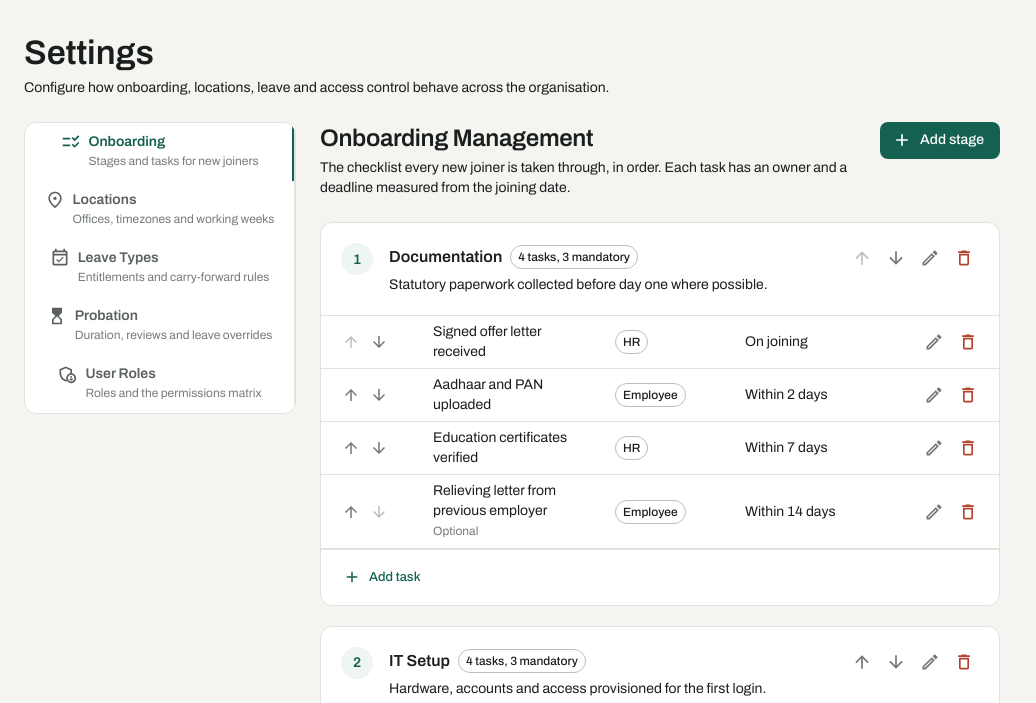
it: SettingsPage › switches between every section
The image size is (1036, 703).
Check: the heading "Onboarding Management" is shown, box [320,125,593,151]
Click the tab "Locations Offices, timezones and working weeks" at (160, 210), box [25,181,294,239]
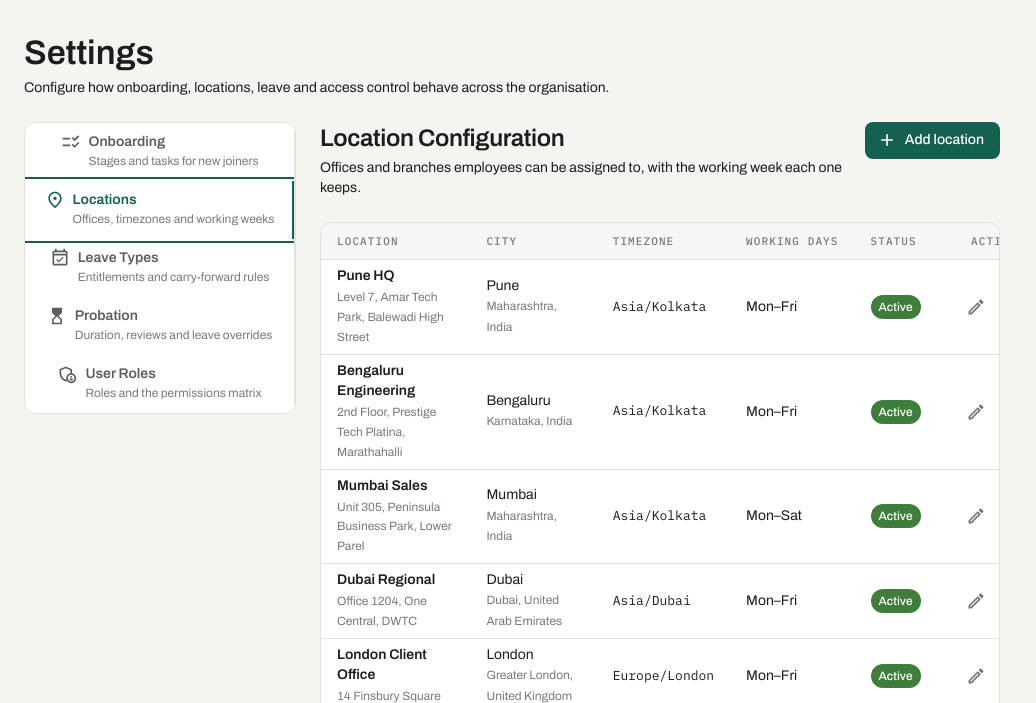
Check: the heading "Location Configuration" is shown, box [320,125,564,151]
Check: the text "Pune HQ" is shown, box [337,268,395,283]
Click the tab "Leave Types Entitlements and carry-forward rules" at (160, 268), box [25,239,294,297]
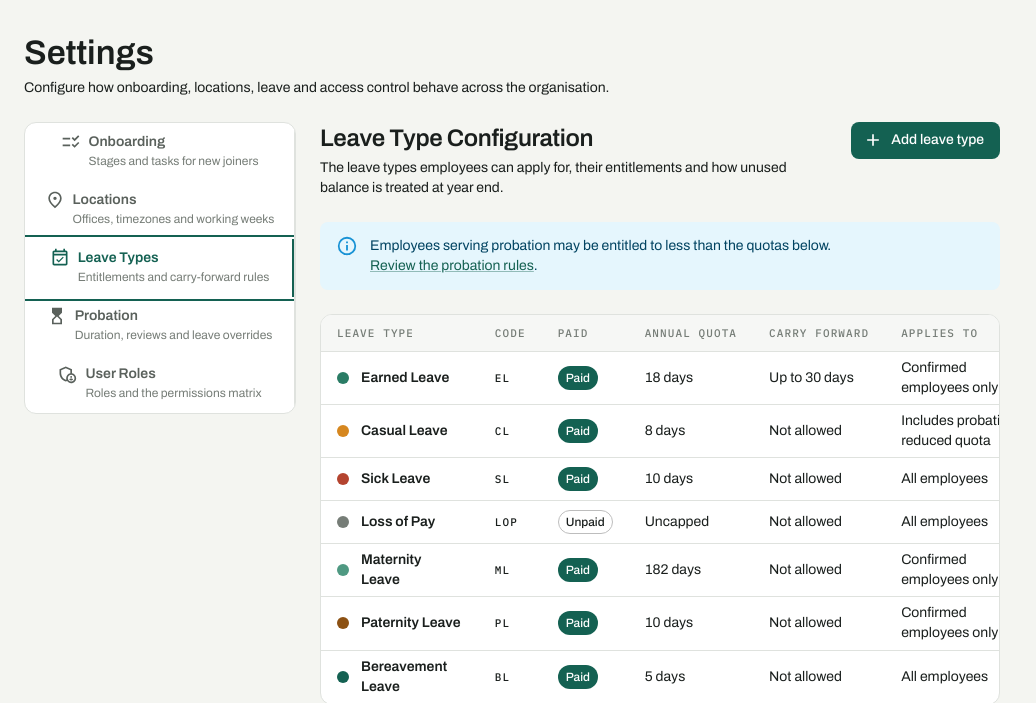
Check: the heading "Leave Type Configuration" is shown, box [320,125,593,151]
Check: the text "Earned Leave" is shown, box [361,368,449,388]
Click the tab "Probation Duration, reviews and leave overrides" at (160, 326), box [25,297,294,355]
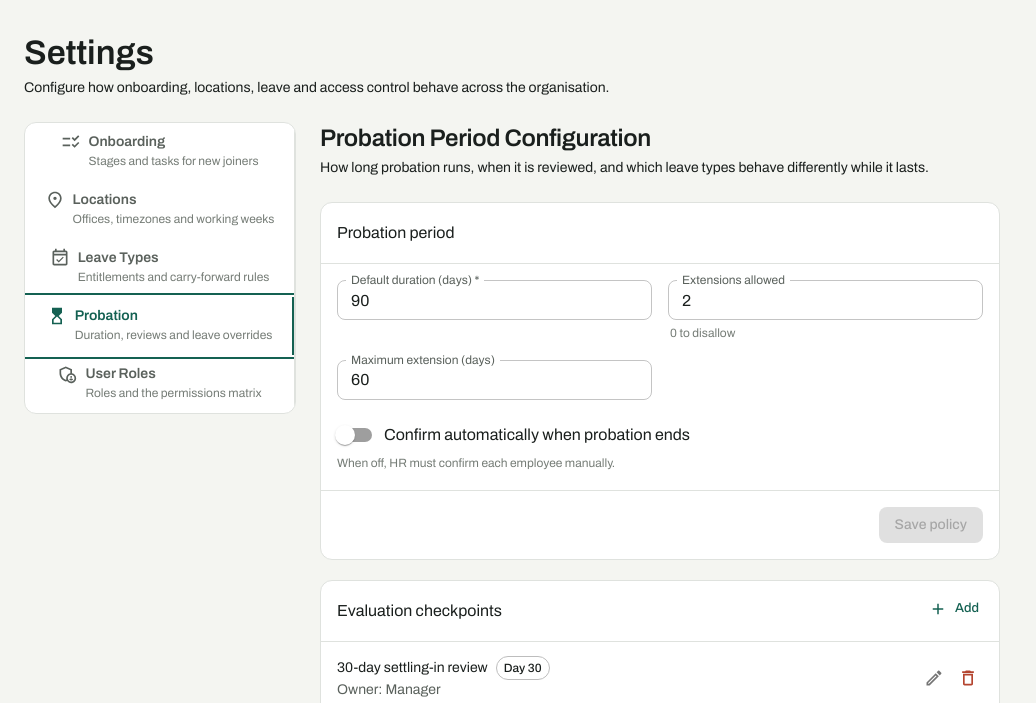
Check: the heading "Probation Period Configuration" is shown, box [320,125,651,151]
Check: the text "30-day settling-in review" is shown, box [337,658,488,678]
Click the tab "User Roles Roles and the permissions matrix" at (160, 384), box [25,355,294,413]
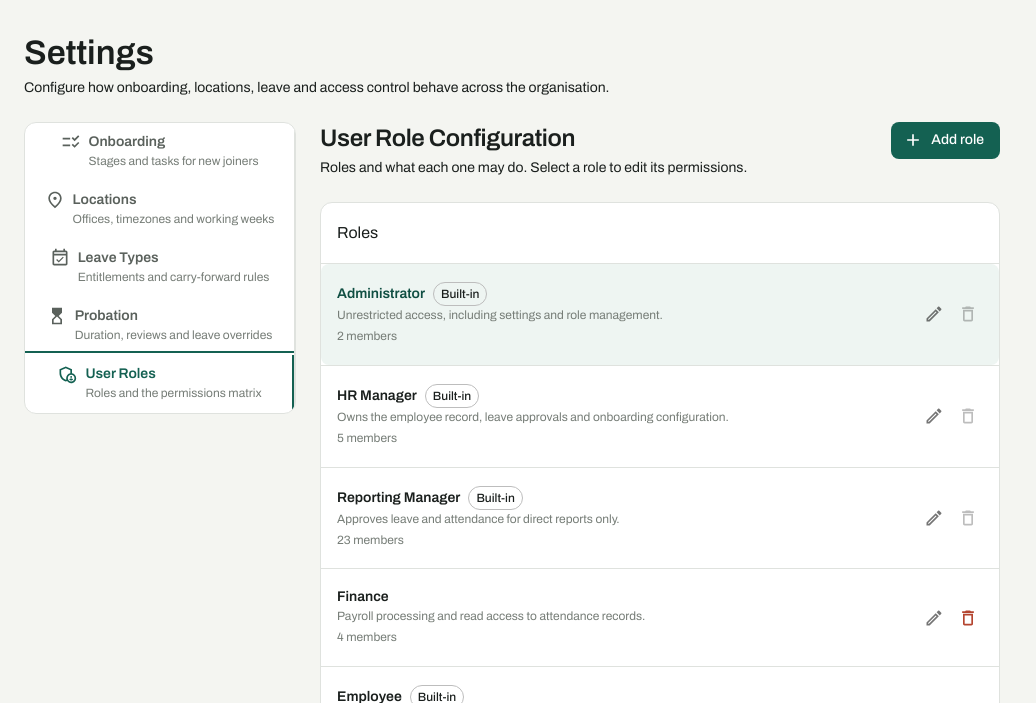
Check: the heading "User Role Configuration" is shown, box [320,125,575,151]
Check: the text "HR Manager" is shown, box [337,386,417,406]
